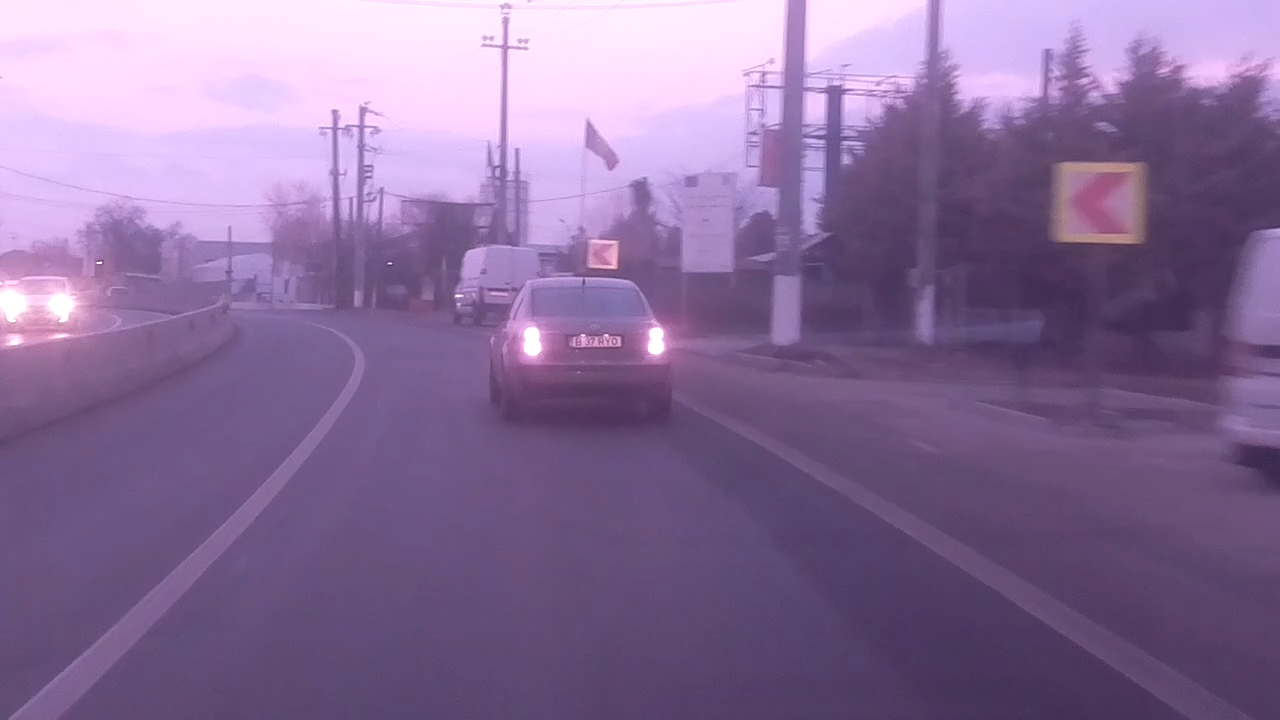license-plate: (564, 332, 625, 350)
